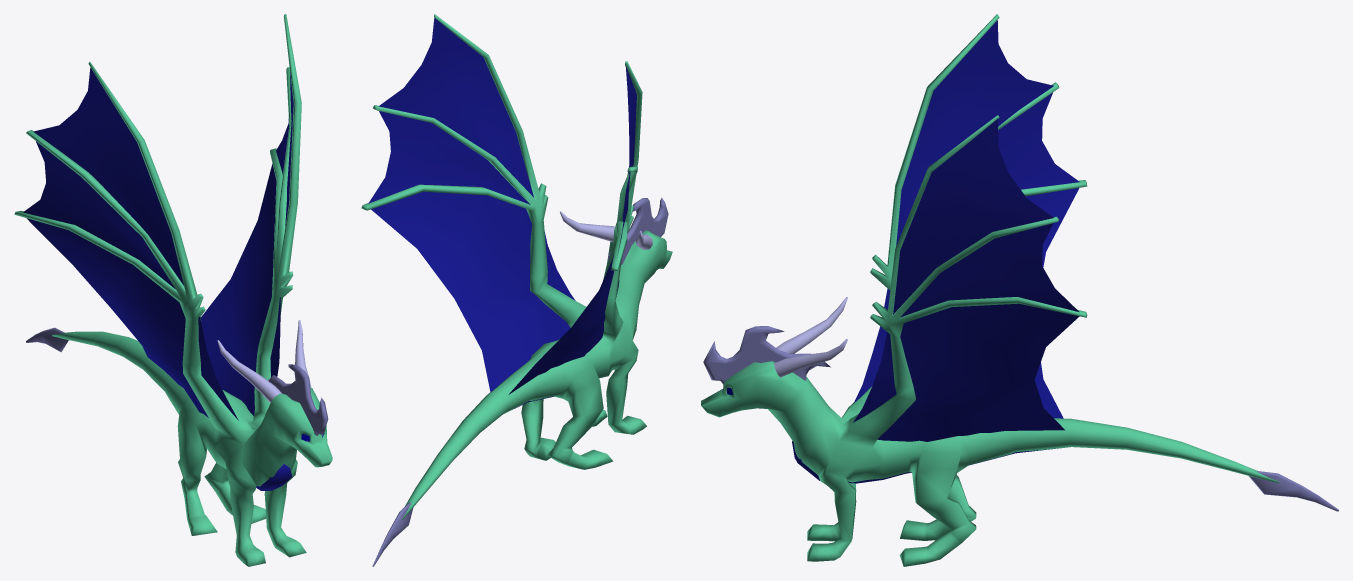
Rendered from skye.FBX.
The picture shows the model from 3 angles, left to right: view 1: azimuth 30°, elevation 25°; view 2: azimuth 150°, elevation 25°; view 3: azimuth 270°, elevation 25°; orthographic projection. The views are drawn at different scales.
Visible parts, largest first — view 1: polySurface10, polySurface20, polySurface12, polySurface17, polySurface21, polySurface18; view 2: polySurface10, polySurface20, polySurface12, polySurface17, polySurface21; view 3: polySurface10, polySurface20, polySurface12, polySurface17, polySurface21.
Boxes of the visible parts, bbox=[...] form: polySurface10: bbox=[23, 67, 293, 420]; polySurface20: bbox=[14, 14, 332, 566]; polySurface12: bbox=[268, 364, 328, 435]; polySurface17: bbox=[217, 320, 311, 402]; polySurface21: bbox=[26, 327, 68, 352]; polySurface18: bbox=[256, 464, 291, 490]; polySurface10: bbox=[368, 18, 636, 394]; polySurface20: bbox=[361, 14, 672, 519]; polySurface12: bbox=[608, 197, 668, 264]; polySurface17: bbox=[560, 211, 652, 249]; polySurface21: bbox=[372, 502, 413, 566]; polySurface10: bbox=[853, 20, 1079, 441]; polySurface20: bbox=[701, 14, 1279, 566]; polySurface12: bbox=[703, 326, 830, 384]; polySurface17: bbox=[774, 297, 847, 377]; polySurface21: bbox=[1249, 471, 1338, 511].
Bounding box in the file's own units: 5.7 × 9.35 × 11.2.
